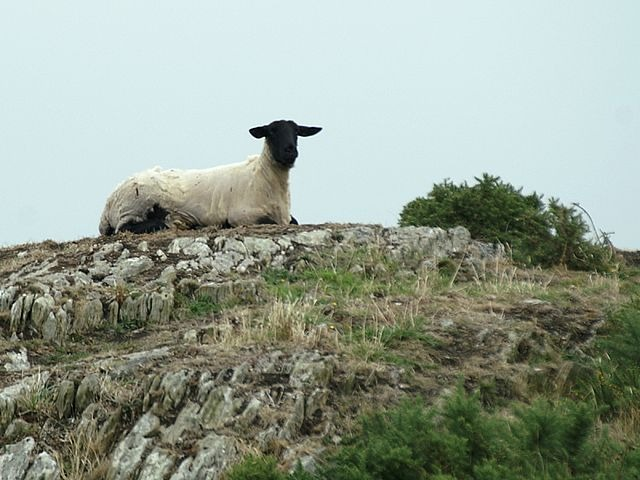resting: (96, 121, 325, 236)
